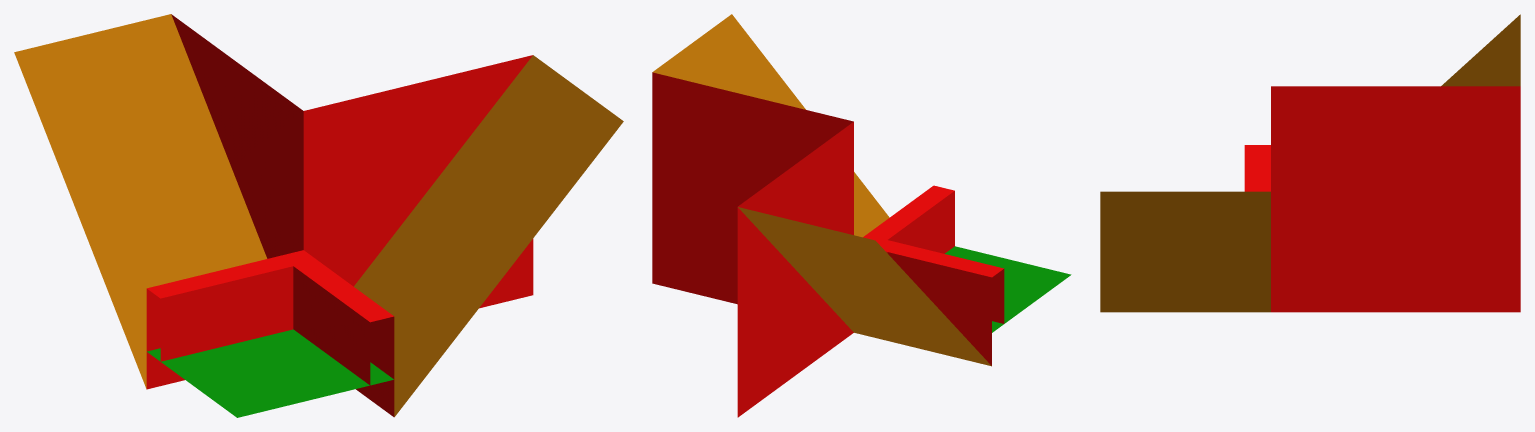
The picture shows the model from 3 angles, left to right: view 1: azimuth 30°, elevation 25°; view 2: azimuth 150°, elevation 25°; view 3: azimuth 270°, elevation 25°; orthographic projection. The views are drawn at different scales.
Visible parts, largest first — view 1: None_A_S_A_E_S_W_E_E_None; view 2: None_A_S_A_E_S_W_E_E_None; view 3: None_A_S_A_E_S_W_E_E_None.
Boxes of the visible parts, <box> form: None_A_S_A_E_S_W_E_E_None: <box>14,14,623,417</box>; None_A_S_A_E_S_W_E_E_None: <box>652,14,1071,417</box>; None_A_S_A_E_S_W_E_E_None: <box>1100,14,1520,312</box>.
Bounding box in the file's own units: 100 × 59.38 × 100.
